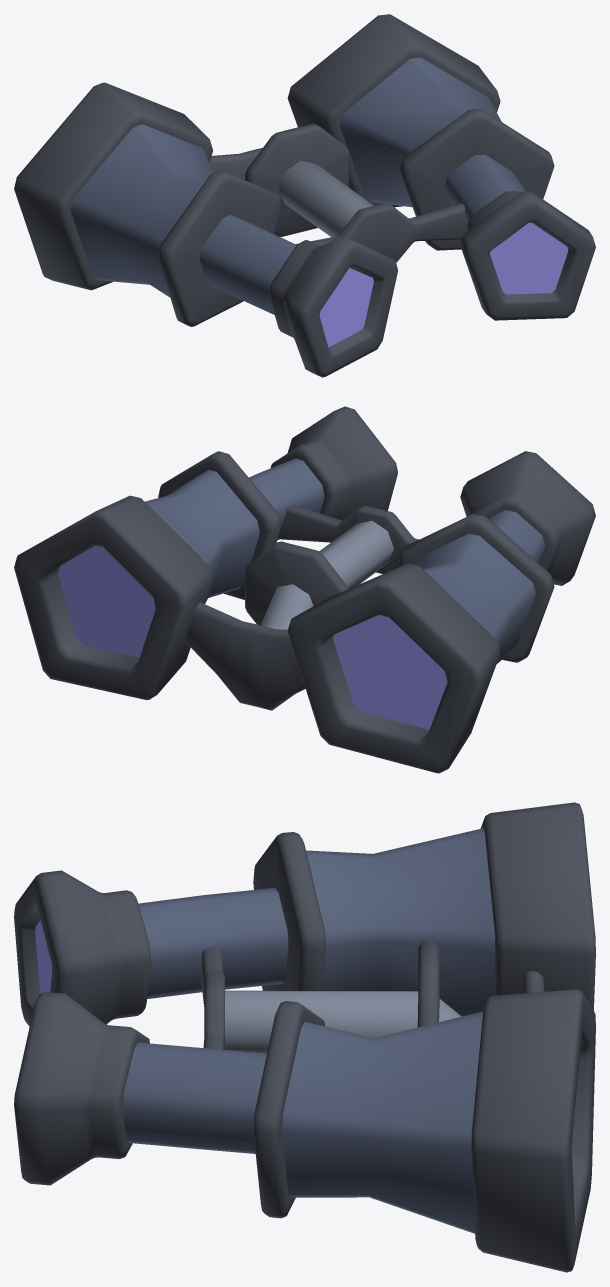
The model's file is props_binoculars.fbx.
The picture shows the model from 3 angles, top to bottom: view 1: azimuth 30°, elevation 25°; view 2: azimuth 150°, elevation 25°; view 3: azimuth 270°, elevation 25°; orthographic projection. The views are drawn at different scales.
Visible parts, largest first — view 1: Binoculars.001, Binoculars, Binoculars.002, Binoculars.003; view 2: Binoculars.001, Binoculars, Binoculars.002, Binoculars.003; view 3: Binoculars.001, Binoculars, Binoculars.003, Binoculars.002.
Boxes of the visible parts, x1,y1,x2,y2 form: Binoculars.001: (14,14,595,377); Binoculars: (70,57,525,314); Binoculars.002: (319,222,568,347); Binoculars.003: (278,161,373,237); Binoculars.001: (14,406,595,773); Binoculars: (145,458,545,663); Binoculars.002: (58,546,447,729); Binoculars.003: (261,520,393,629); Binoculars.001: (14,802,595,1272); Binoculars: (123,828,495,1233); Binoculars.003: (225,990,461,1053); Binoculars.002: (35,920,52,993).
Bounding box in the file's own units: 90.42 × 33.6 × 72.13.
